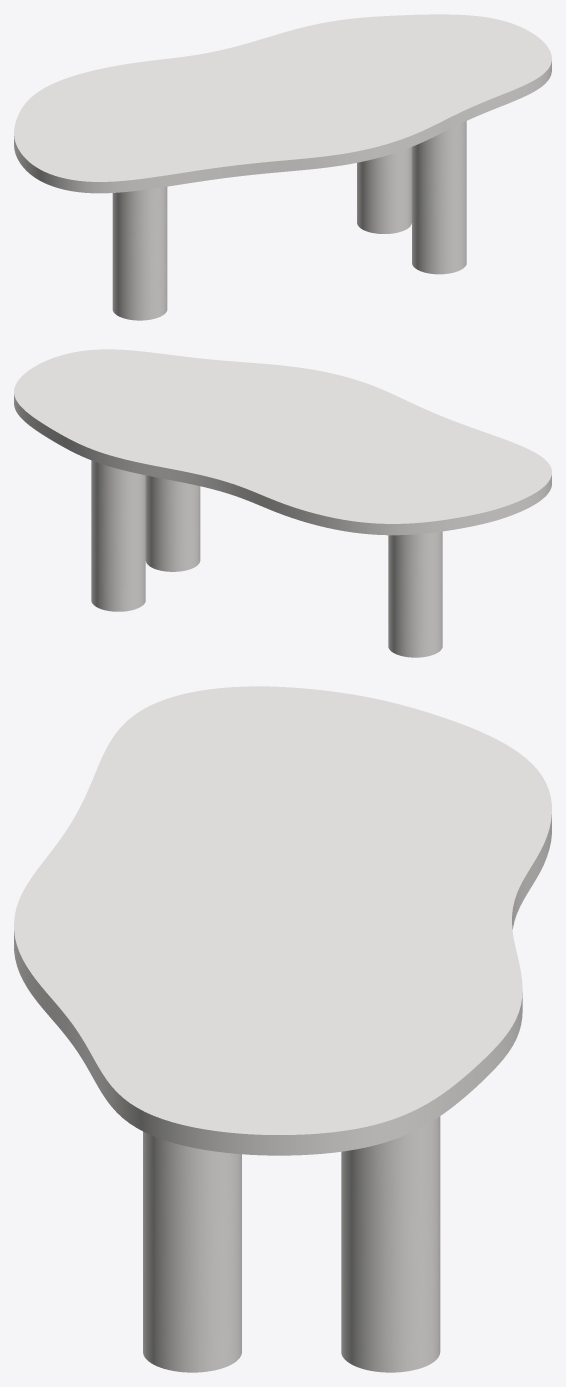
File: purewhite_toplast_standard_cylinder.glb
3 renders of one model, top to bottom at view 1: azimuth 30°, elevation 25°; view 2: azimuth 150°, elevation 25°; view 3: azimuth 270°, elevation 25°, orthographic. The views are drawn at different scales.
Parts seen in each view (by area): view 1: standard_toplast, cylinder; view 2: standard_toplast, cylinder; view 3: standard_toplast, cylinder.
Part boxes in pixels (x1,y1,x2,y2): standard_toplast: (14,14,551,193); cylinder: (112,121,466,320); standard_toplast: (14,349,551,535); cylinder: (91,460,442,657); standard_toplast: (14,686,551,1155); cylinder: (143,1116,440,1372).
Size of the model in its own units: 7.5 by 2.52 by 3.8.
Materials: 1 (1 with a texture image).
